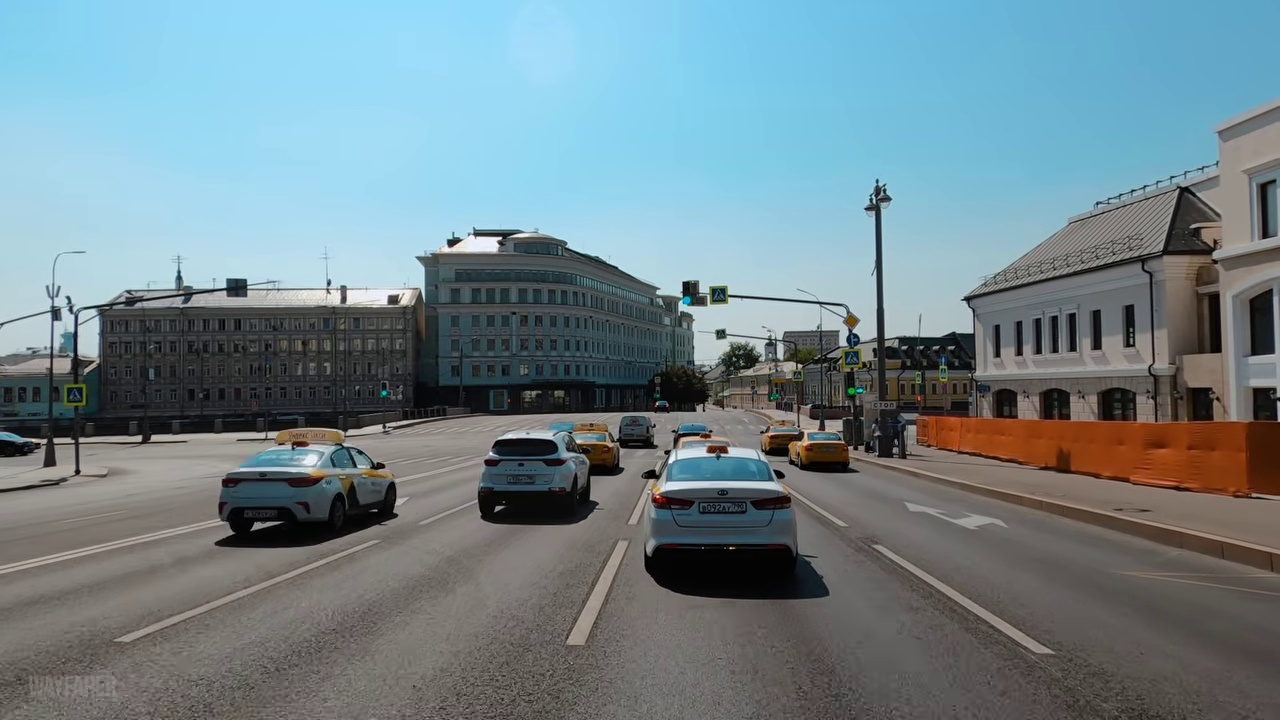apagada: (863, 183, 895, 216)
